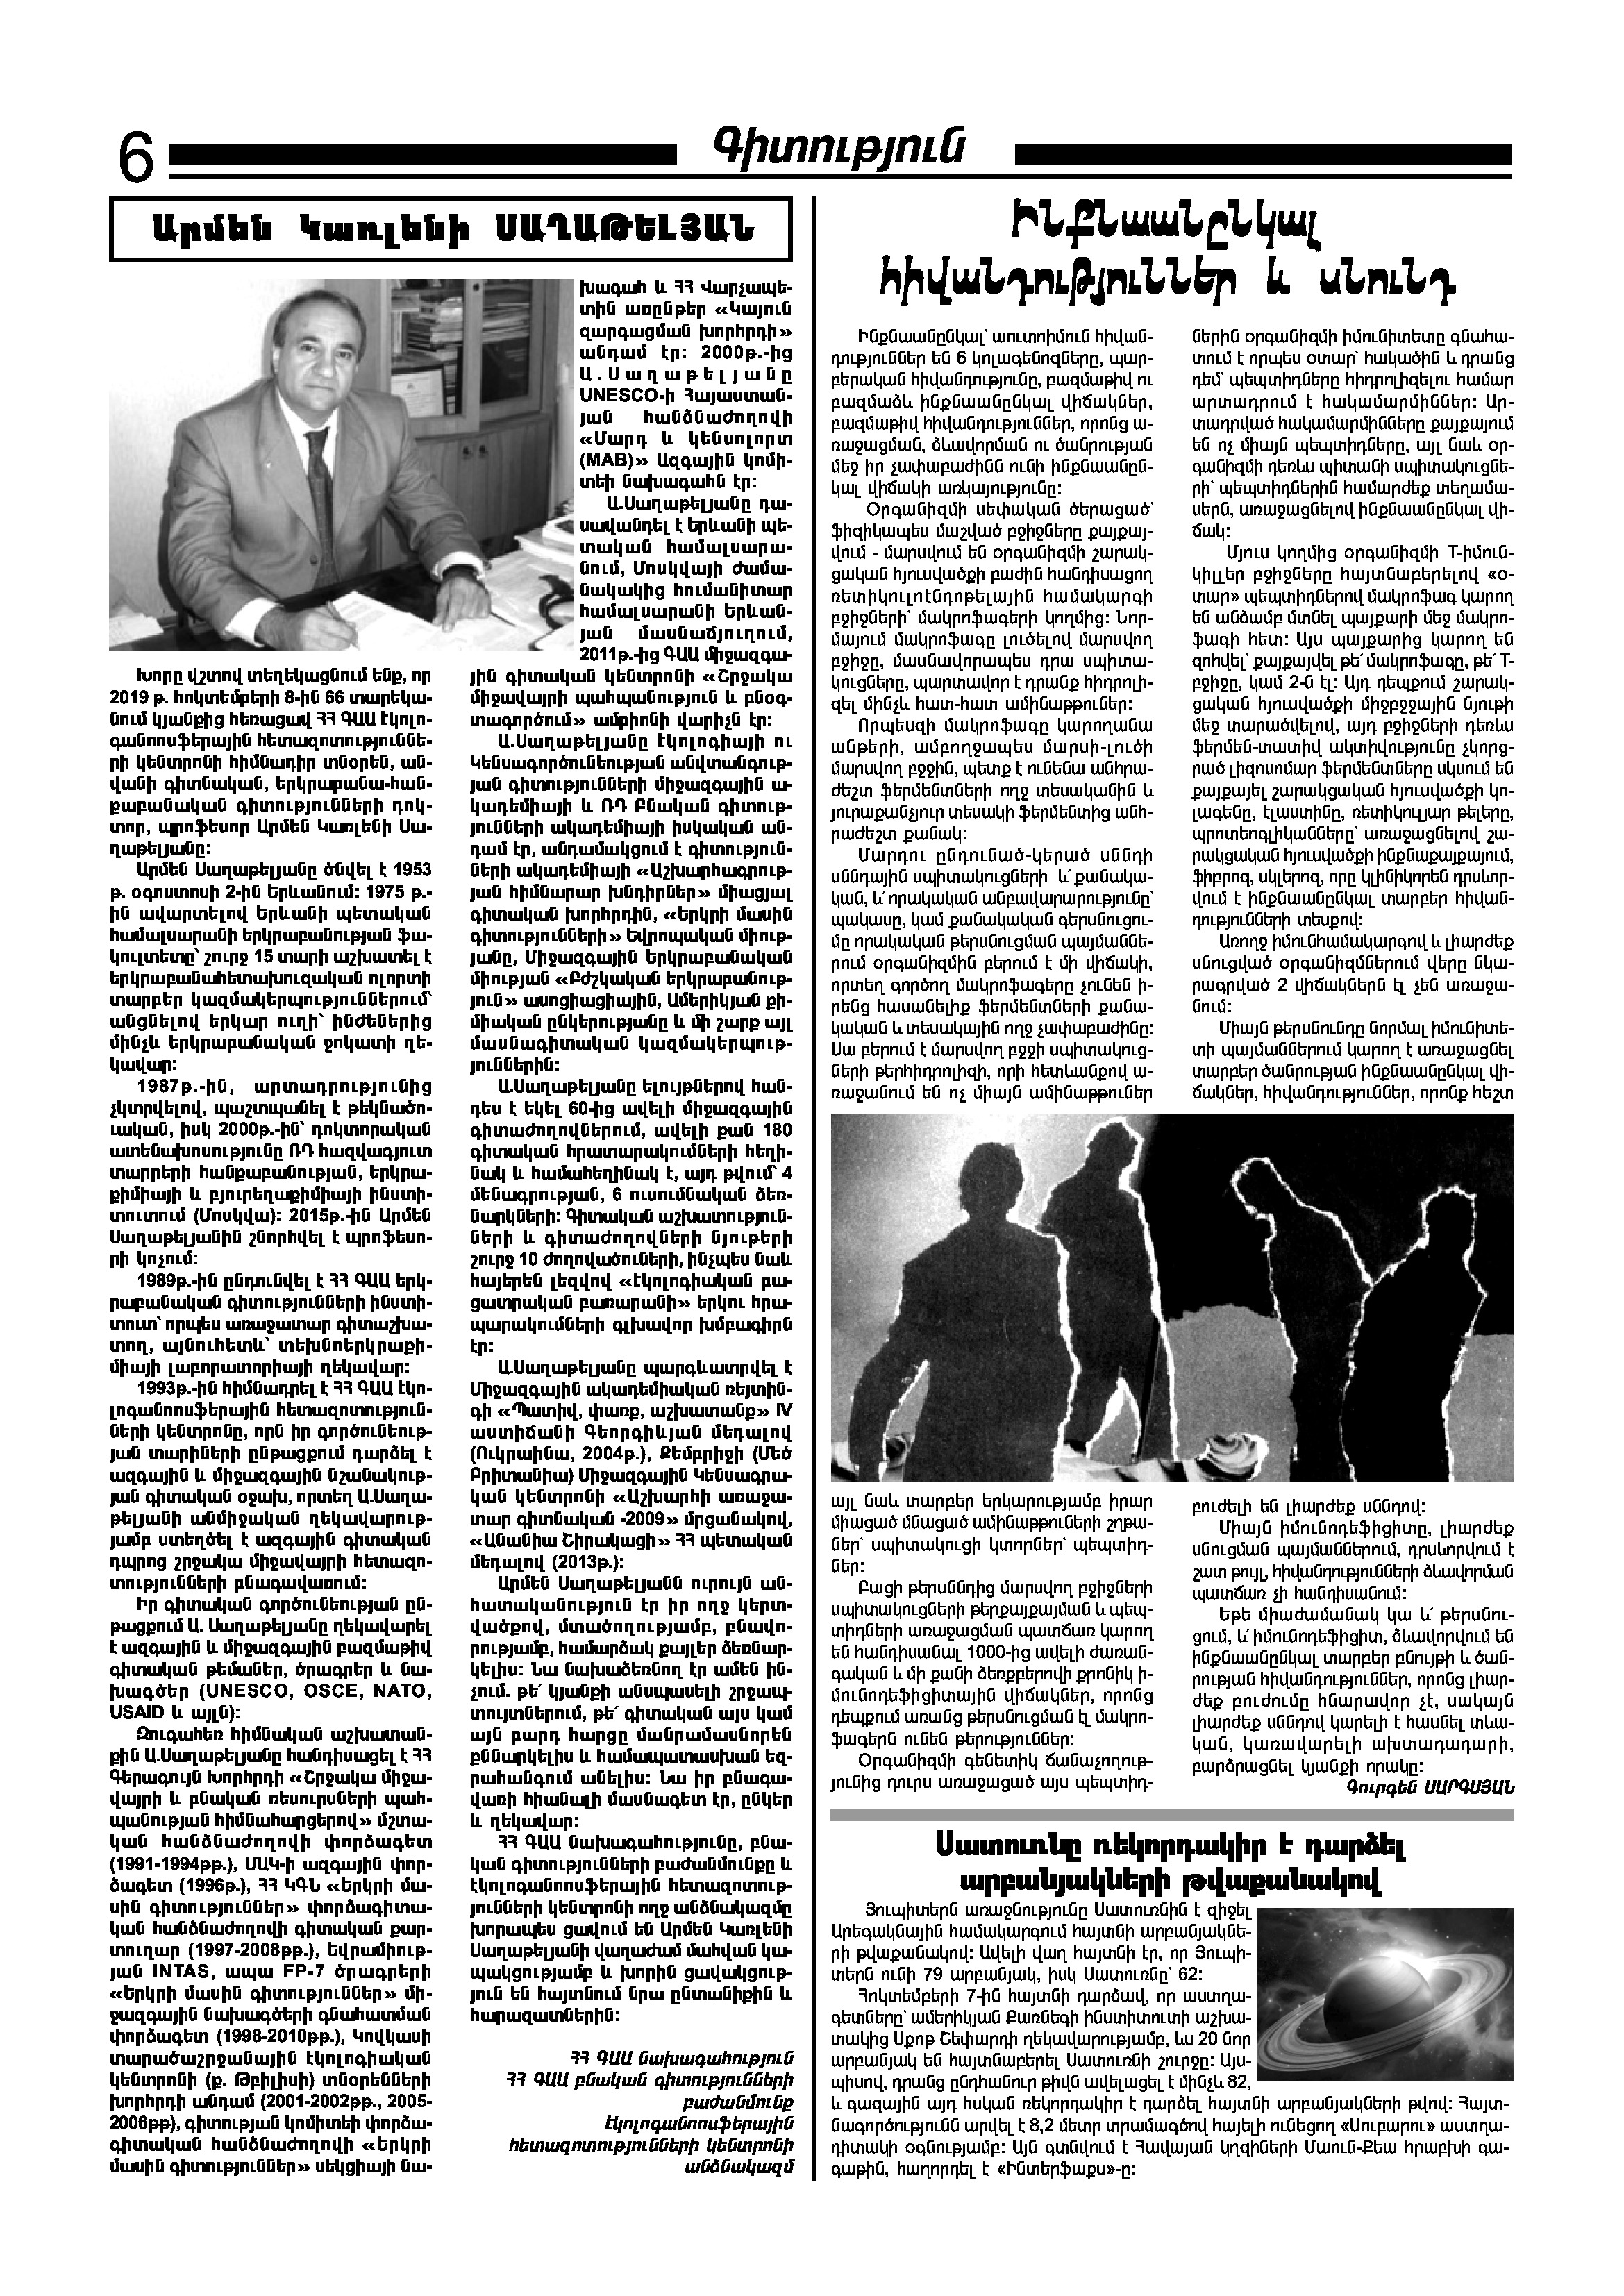person: (828, 1092, 1537, 1490), (105, 265, 581, 660)
